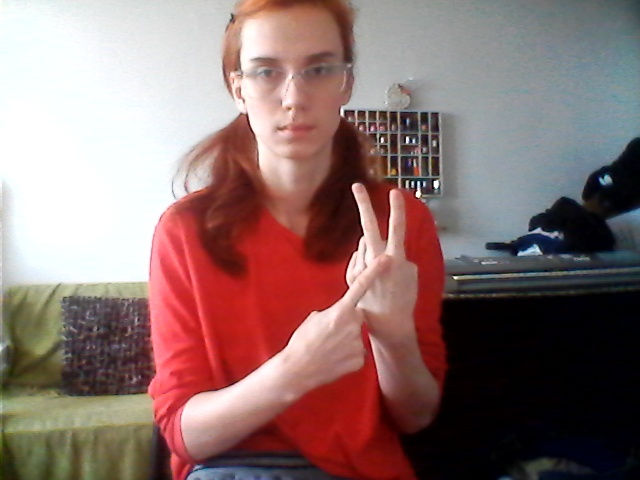y: (293, 182, 426, 395)
